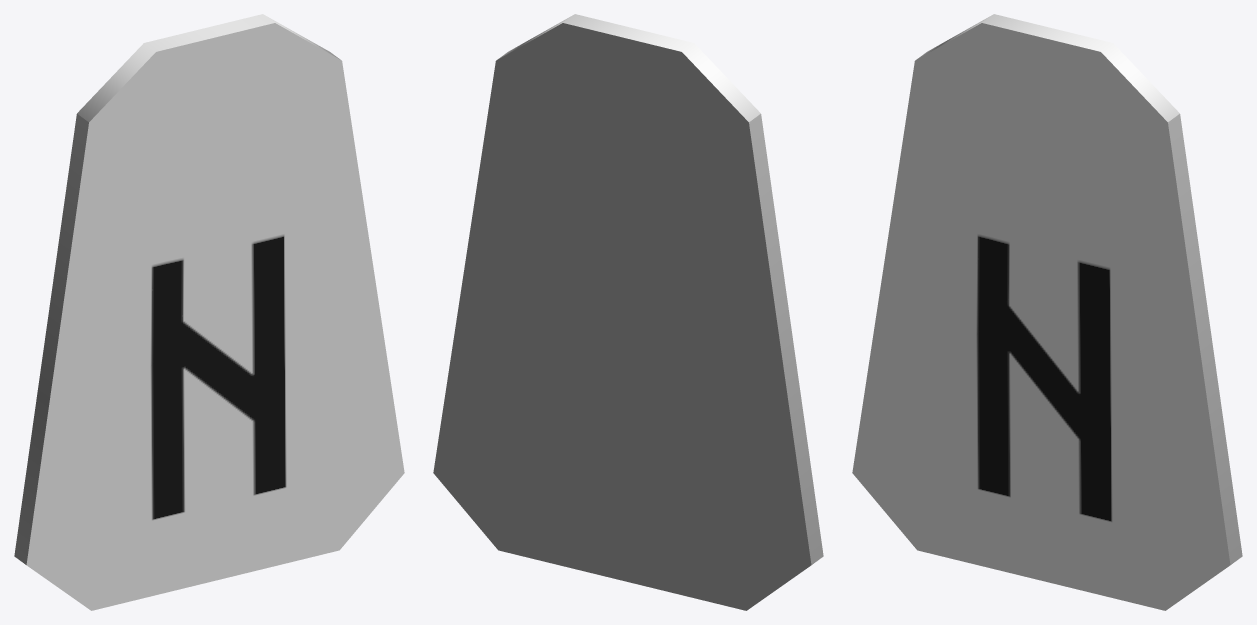
Rendered from Tag_D.fbx.
3 renders of one model, left to right at view 1: azimuth 30°, elevation 25°; view 2: azimuth 150°, elevation 25°; view 3: azimuth 330°, elevation 25°, orthographic.
Parts seen in each view (by area): view 1: Tag_D; view 2: Tag_D; view 3: Tag_D.
Boxes of the visible parts, x1,y1,x2,y2 form: Tag_D: [14, 14, 404, 610]; Tag_D: [433, 14, 823, 610]; Tag_D: [852, 14, 1242, 610].
Size of the model in its own units: 17.93 by 24.62 by 1.
